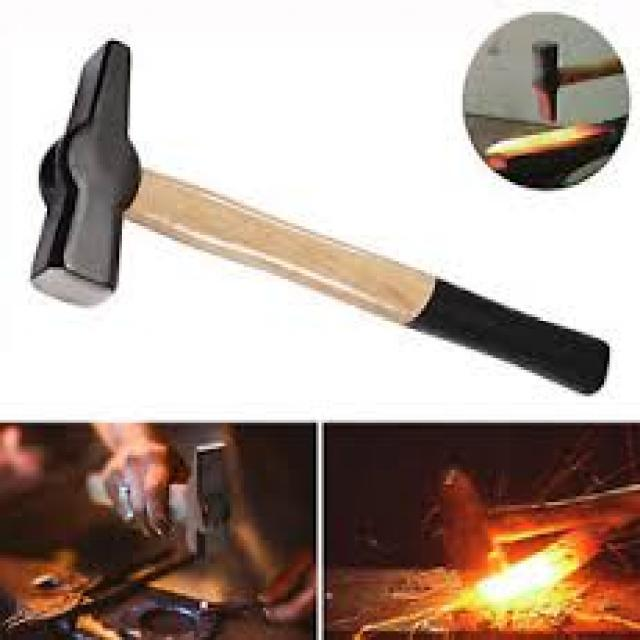hammer: (21, 31, 616, 403), (426, 461, 640, 593), (72, 436, 246, 574), (528, 36, 625, 125)
